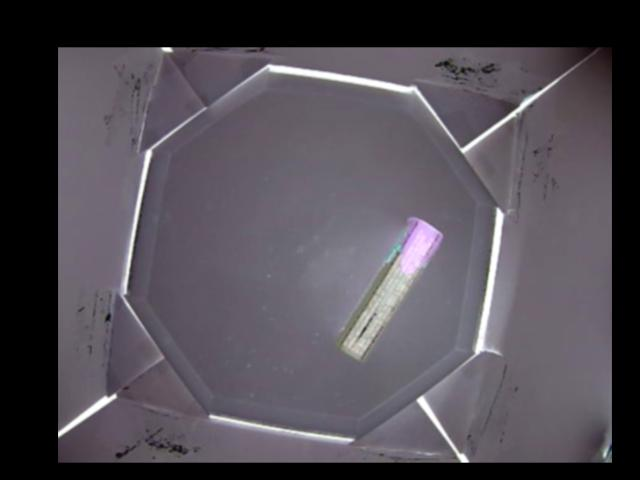Bottle: (331, 217, 441, 361)
